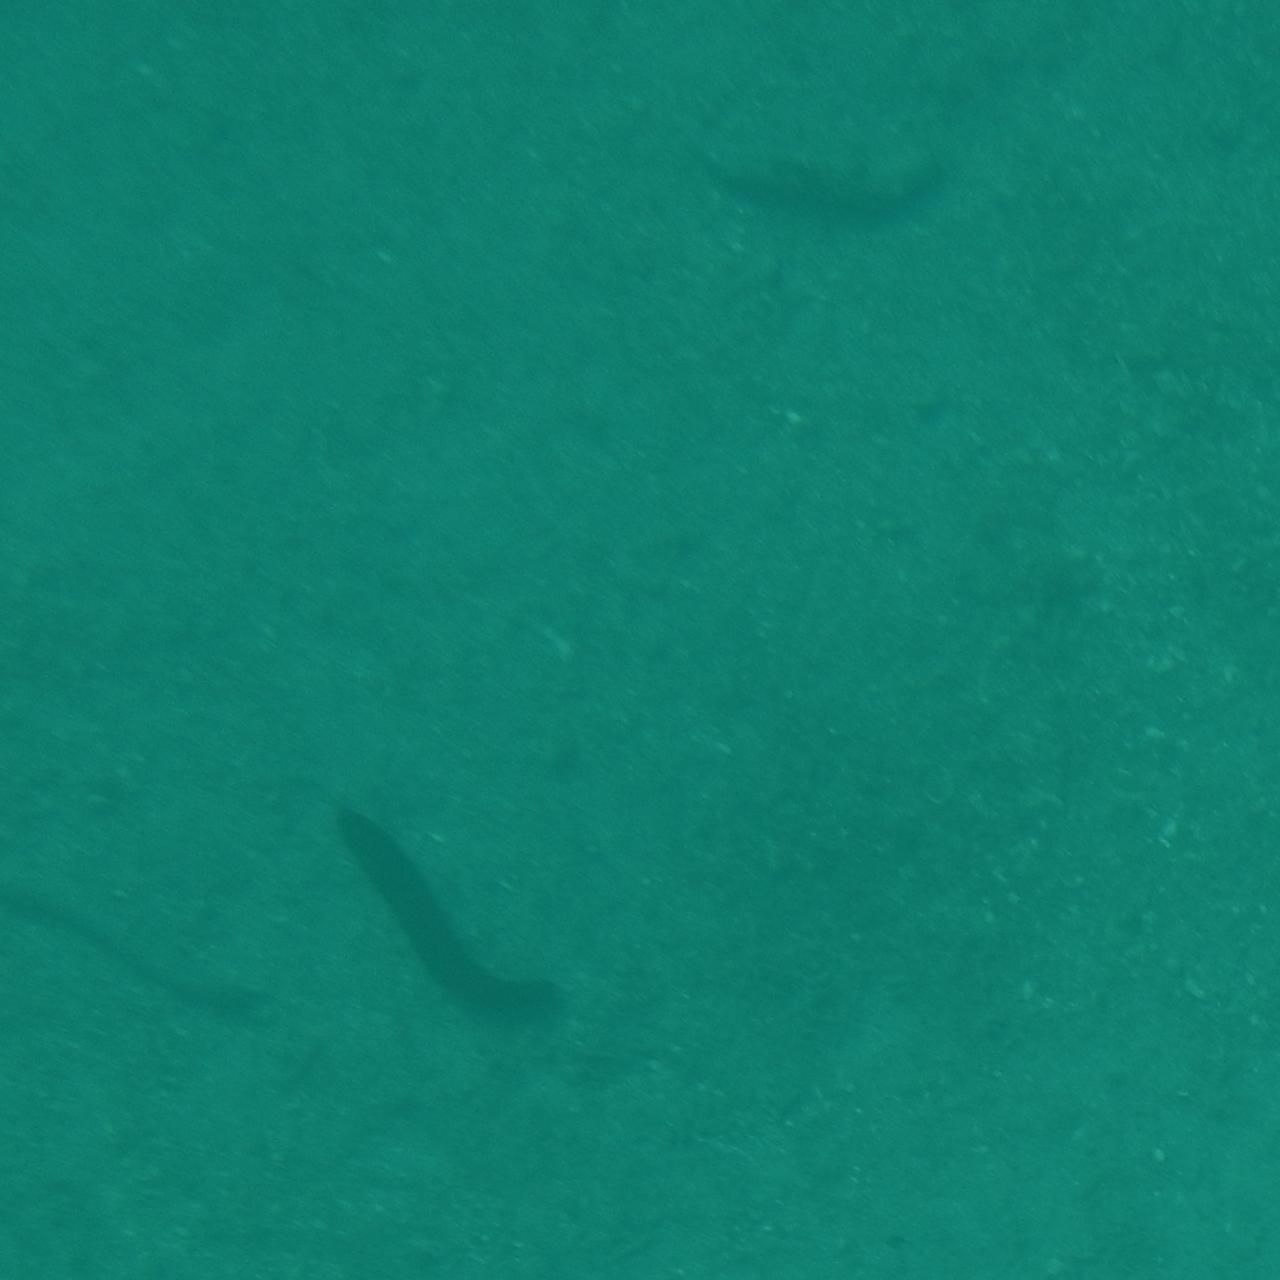Holothuria tubulosa: (326, 775, 580, 1029), (707, 46, 947, 218)
